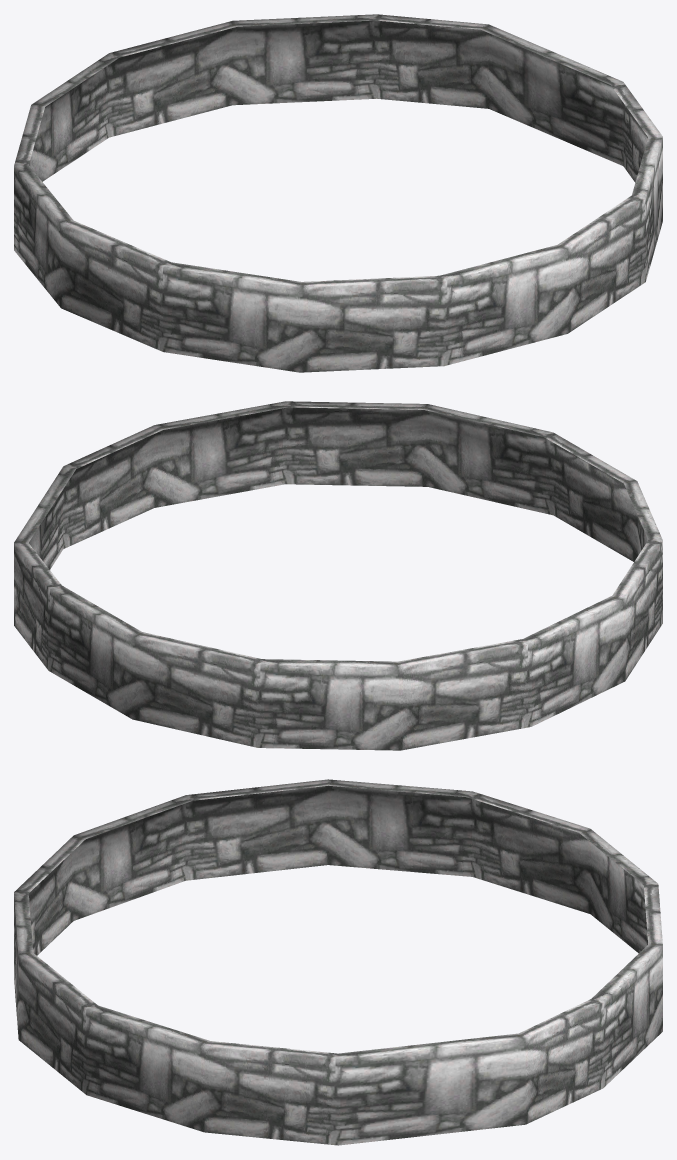
File: HTOWN01_HANNA-BASE.fbx
3 views of the same model, one above another, from view 1: azimuth 30°, elevation 25°; view 2: azimuth 150°, elevation 25°; view 3: azimuth 270°, elevation 25° (orthographic). The views are drawn at different scales.
Visible parts, largest first — view 1: HTOWN01_HANNA-BASE; view 2: HTOWN01_HANNA-BASE; view 3: HTOWN01_HANNA-BASE.
Boxes of the visible parts, left/top/right/bottom form: HTOWN01_HANNA-BASE: left=14, top=14, right=662, bottom=372; HTOWN01_HANNA-BASE: left=14, top=401, right=662, bottom=750; HTOWN01_HANNA-BASE: left=14, top=779, right=662, bottom=1145.
Bounding box in the file's own units: 70260 × 10000 × 68697.
1 material, 1 textured.
